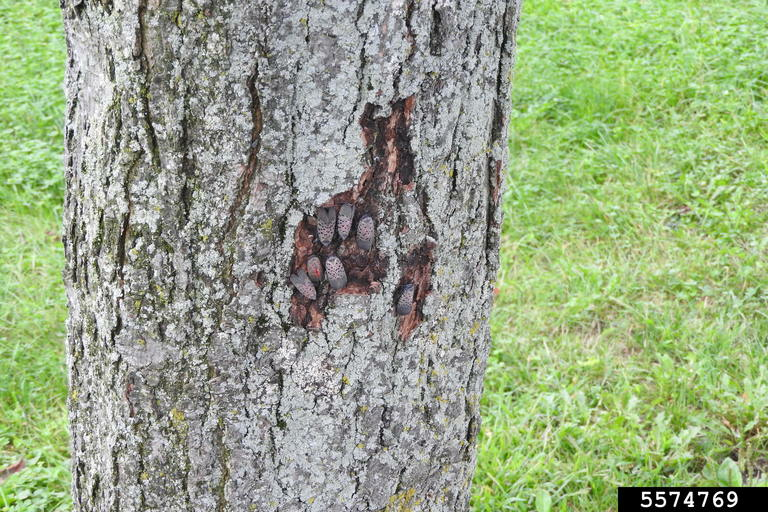adult: (304, 197, 336, 247), (281, 265, 316, 302), (321, 251, 352, 291), (354, 208, 378, 254), (394, 273, 418, 318), (300, 248, 327, 282), (335, 200, 354, 242)
